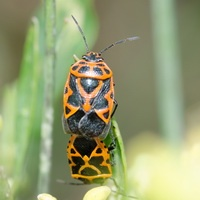insect: (63, 16, 139, 189)
